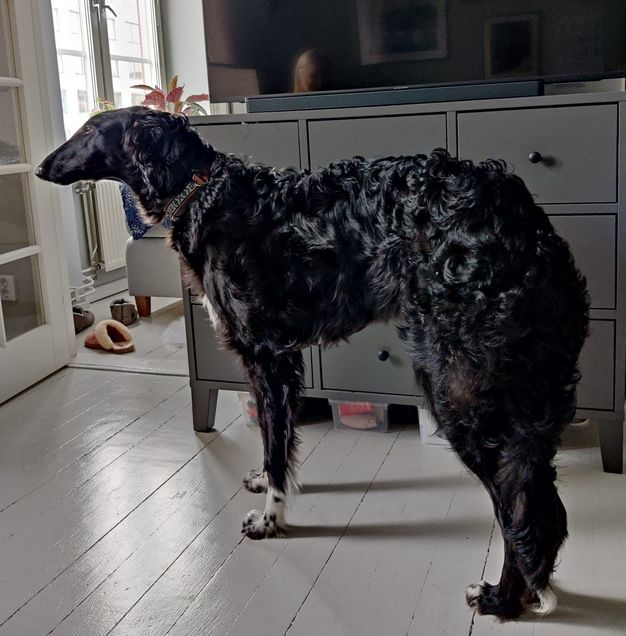borzoi: (26, 100, 601, 627)
